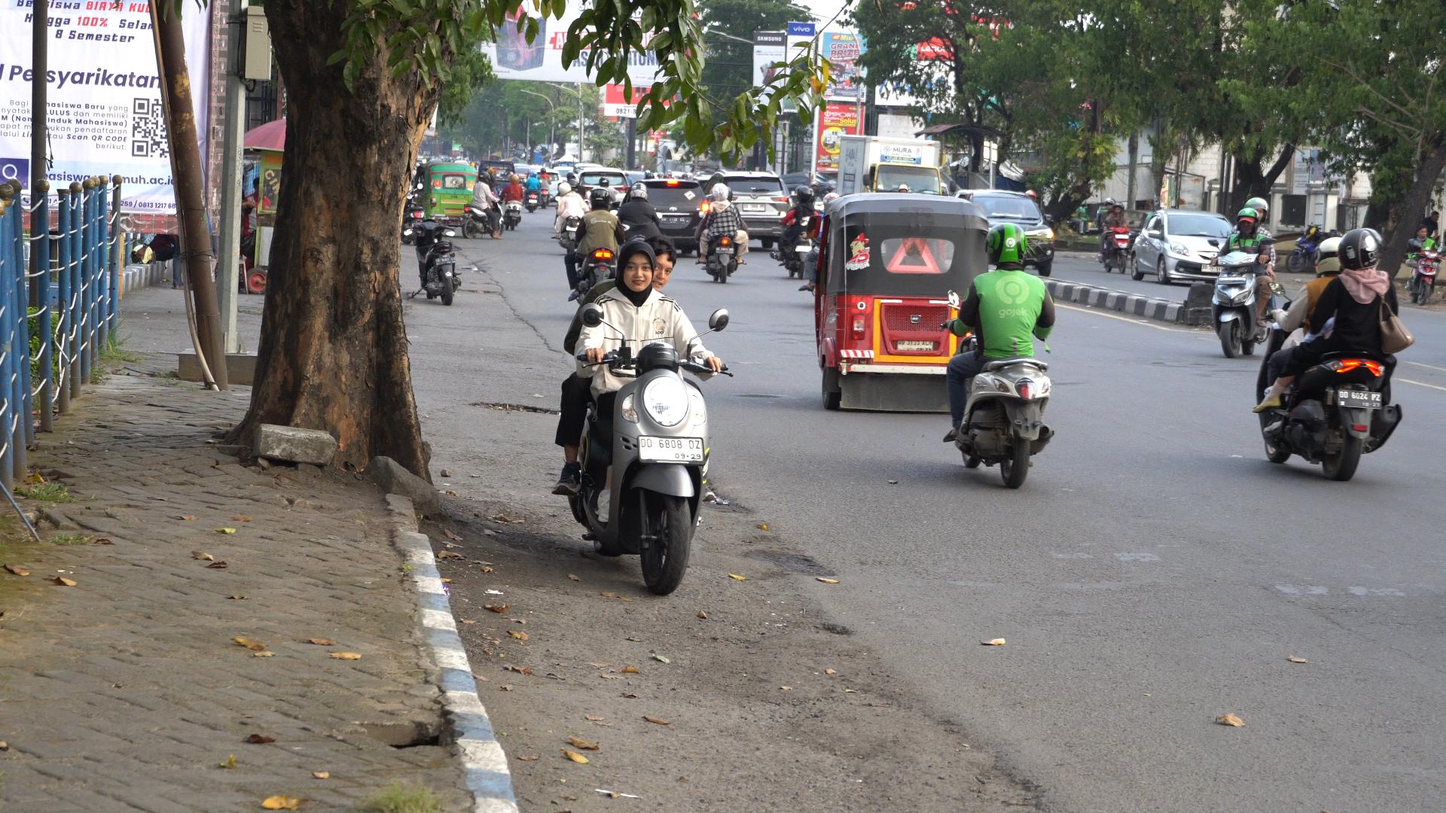number-plate: (638, 433, 706, 464)
